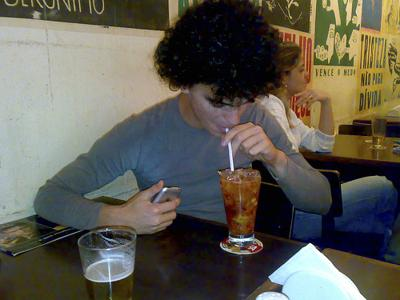person: (29, 2, 335, 237)
